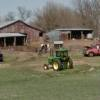Tractor: (35, 39, 78, 78)
